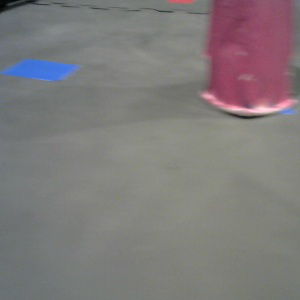Right: (206, 1, 292, 116)
